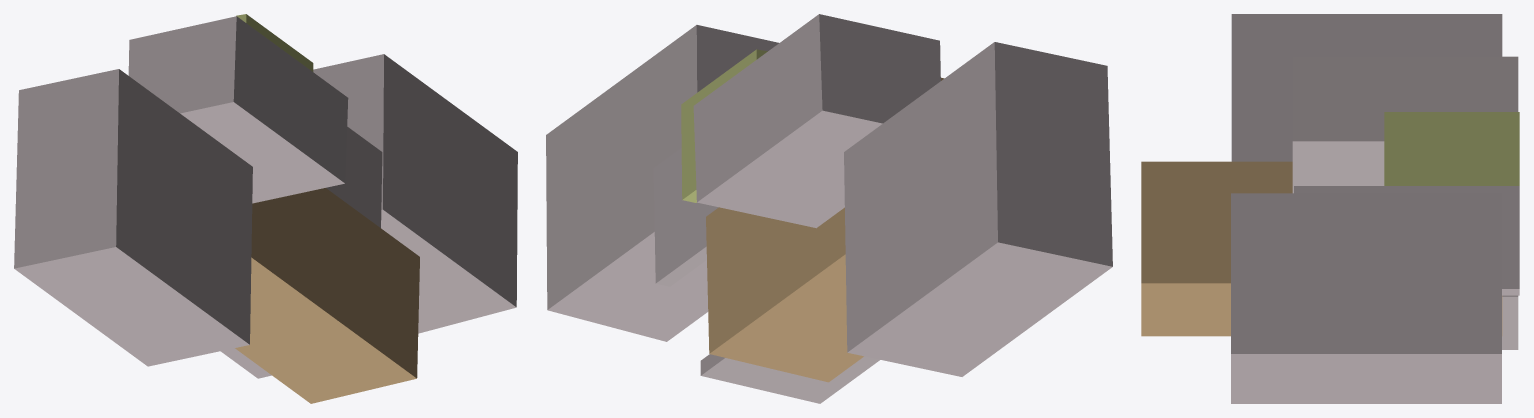
3 renders of one model, left to right at view 1: azimuth 30°, elevation 25°; view 2: azimuth 150°, elevation 25°; view 3: azimuth 270°, elevation 25°, orthographic. The views are drawn at different scales.
Visible parts, largest first — view 1: 0_2_1_3_0_0_2_3_0_2; view 2: 0_2_1_3_0_0_2_3_0_2; view 3: 0_2_1_3_0_0_2_3_0_2.
Part boxes in pixels (bbox=[...]): 0_2_1_3_0_0_2_3_0_2: bbox=[14, 14, 517, 403]; 0_2_1_3_0_0_2_3_0_2: bbox=[546, 14, 1112, 403]; 0_2_1_3_0_0_2_3_0_2: bbox=[1141, 14, 1519, 403].
Bounding box in the file's own units: 28.71 × 17.85 × 25.16.
